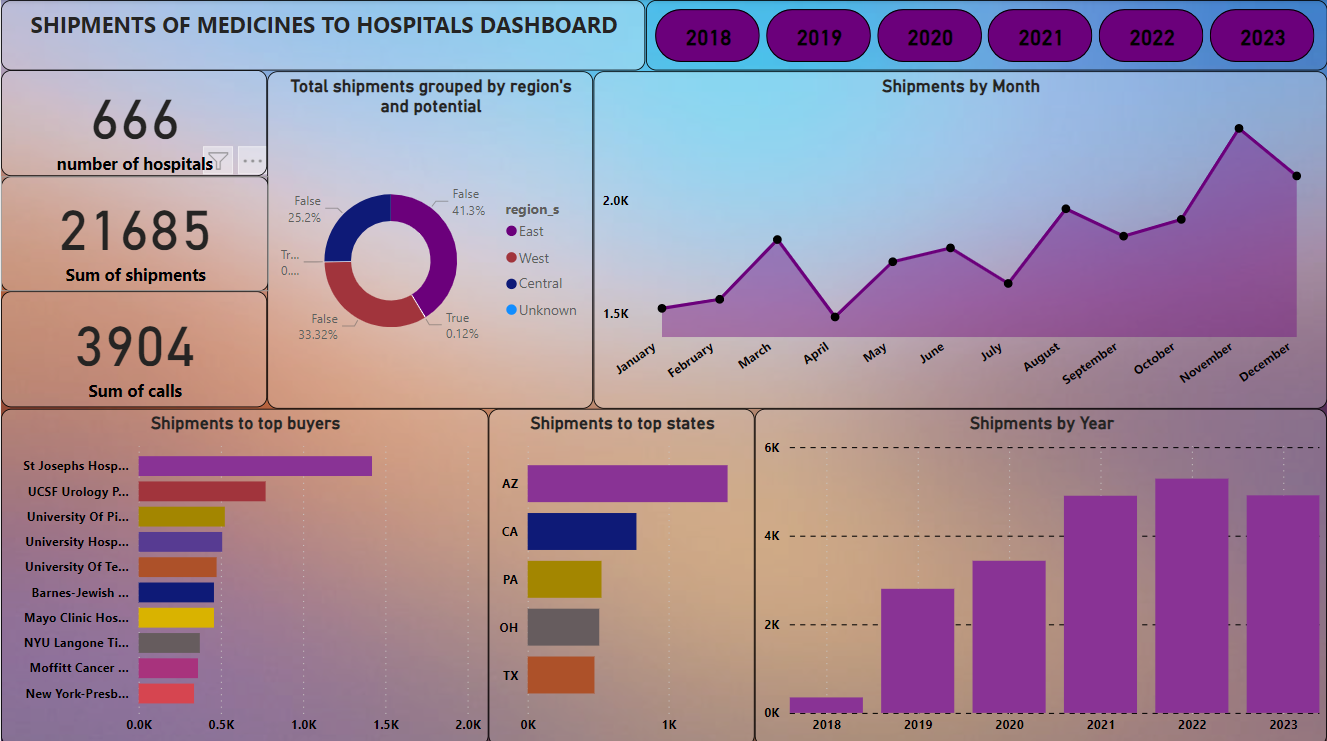

The dashboard page shown, as its layout file describes it:
{"tool":"powerbi","page":{"name":"Page 1","canvas":[1280,720],"ordinal":0},"visuals":[{"type":"textbox","box":[0,0,621.8,67.8],"z":0},{"type":"columnChart","title":"Shipments by Year","fields":{"Category":["Gleolan Account View Data.month_date.Variation.Date Hierarchy.Year","Gleolan Account View Data.month_date.Variation.Date Hierarchy.Quarter","Gleolan Account View Data.month_date.Variation.Date Hierarchy.Month","Gleolan Account View Data.month_date.Variation.Date Hierarchy.Day"],"Y":["Sum(Gleolan Account View Data.shipments)"]},"box":[727.2,394.4,552.4,325.6],"z":1000},{"type":"areaChart","title":"Shipments by Month","fields":{"Category":["Gleolan Account View Data.month_date.Variation.Date Hierarchy.Year","Gleolan Account View Data.month_date.Variation.Date Hierarchy.Quarter","Gleolan Account View Data.month_date.Variation.Date Hierarchy.Month","Gleolan Account View Data.month_date.Variation.Date Hierarchy.Day"],"Y":["Sum(Gleolan Account View Data.shipments)"]},"box":[571.7,68.7,707.9,325.6],"z":2000},{"type":"barChart","title":"Shipments to top buyers ","fields":{"Category":["Gleolan Account View Data.account_name"],"Y":["Sum(Gleolan Account View Data.shipments)"]},"box":[0,394.4,470.4,325.6],"z":3000},{"type":"donutChart","title":"Total shipments grouped by region''s and potential","fields":{"Category":["Gleolan Account View Data.region_s"],"Y":["Sum(Gleolan Account View Data.shipments)"],"Series":["Gleolan Account View Data.potential"]},"box":[256.9,68.7,314.8,325.6],"z":4000},{"type":"barChart","title":"Shipments to top states","fields":{"Category":["Gleolan Account View Data.account_state"],"Y":["Sum(Gleolan Account View Data.shipments)"]},"box":[470.4,394.4,256.9,325.6],"z":5000},{"type":"card","fields":{"Values":["Sum(Gleolan Account View Data.shipments)"]},"box":[0,170.1,258.1,111],"z":6000},{"type":"card","fields":{"Values":["Sum(Gleolan Account View Data.calls)"]},"box":[0,281,256.9,112.2],"z":7000},{"type":"card","fields":{"Values":["Gleolan Account View Data.Measure"]},"box":[0,67.5,256.9,102.5],"z":8000},{"type":"advancedSlicerVisual","fields":{"Values":["Gleolan Account View Data.Year"]},"box":[621.8,0,657.9,67.8],"z":9000}]}

Visuals, with their boxes in screenshot pixels (x1, y1, x2, y2), scaled from the page's 1280x720 canvas onto the 1327x741 screenshot:
textbox: (0, 0, 645, 70)
"Shipments by Year" columnChart: (754, 406, 1326, 740)
"Shipments by Month" areaChart: (593, 71, 1326, 406)
"Shipments to top buyers " barChart: (0, 406, 488, 740)
"Total shipments grouped by region''s and potential" donutChart: (266, 71, 593, 406)
"Shipments to top states" barChart: (488, 406, 754, 740)
card - Sum(Gleolan Account View Data.shipments): (0, 175, 268, 289)
card - Sum(Gleolan Account View Data.calls): (0, 289, 266, 405)
card - Gleolan Account View Data.Measure: (0, 69, 266, 175)
advancedSlicerVisual - Gleolan Account View Data.Year: (645, 0, 1326, 70)
